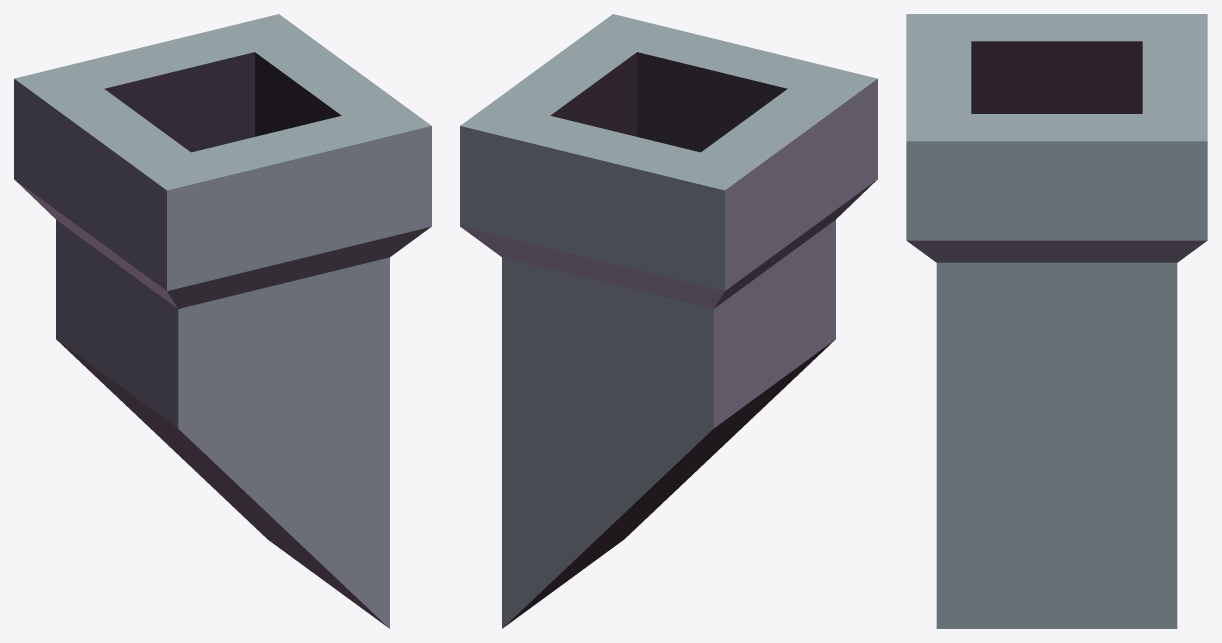
The model's file is Chimney01_Grey.glb.
3 renders of one model, left to right at view 1: azimuth 30°, elevation 25°; view 2: azimuth 150°, elevation 25°; view 3: azimuth 270°, elevation 25°, orthographic.
Parts seen in each view (by area): view 1: Chimney01_Grey; view 2: Chimney01_Grey; view 3: Chimney01_Grey.
Part boxes in pixels (left/top/right/bottom): Chimney01_Grey: left=14, top=14, right=431, bottom=628; Chimney01_Grey: left=460, top=14, right=877, bottom=628; Chimney01_Grey: left=906, top=14, right=1207, bottom=628.
Size of the model in its own units: 0.6225 by 1.14 by 0.6225.
1 material, 1 textured.
